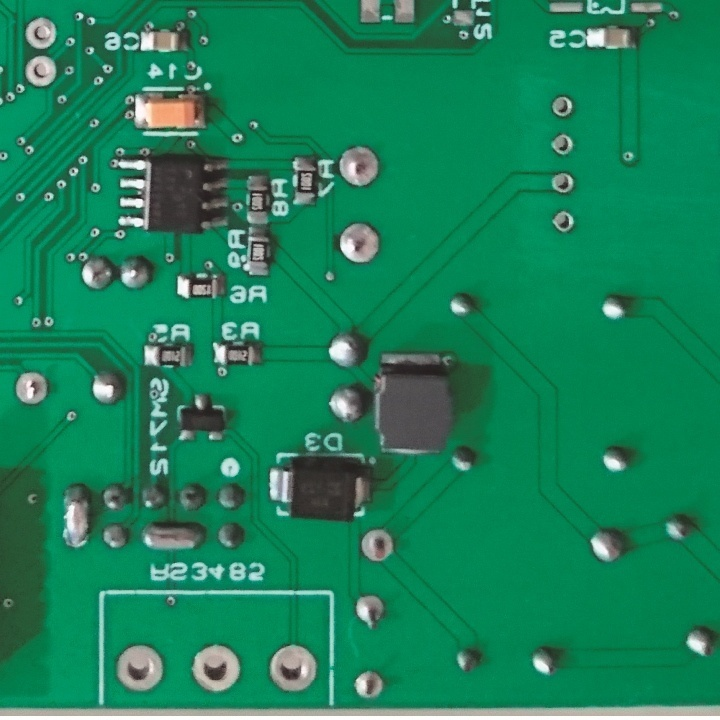F: (189, 641, 244, 699), (111, 643, 168, 695), (266, 640, 319, 695), (336, 143, 381, 191), (336, 222, 381, 268), (11, 366, 53, 408), (358, 526, 399, 565), (350, 594, 390, 632), (23, 15, 59, 52), (23, 55, 59, 90), (351, 669, 387, 703), (548, 169, 578, 197), (548, 129, 576, 158), (547, 94, 575, 120), (550, 209, 575, 236)
P: (58, 483, 95, 555), (138, 520, 209, 553)
